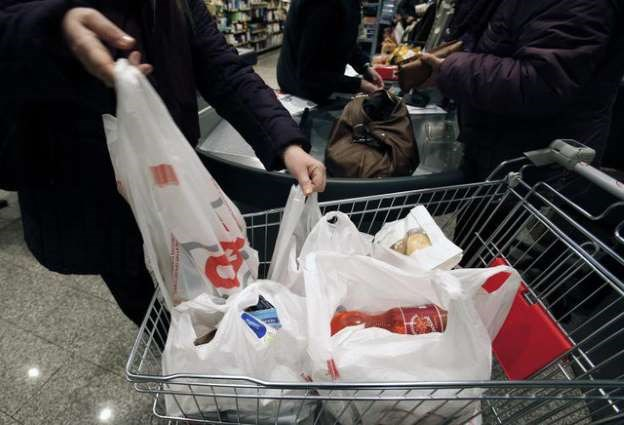plastic bag: (99, 54, 524, 424), (101, 55, 260, 304)
